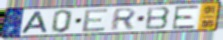0: (50, 8, 74, 34)
A: (20, 11, 49, 35)
B: (144, 6, 172, 31)
E: (81, 7, 111, 33), (171, 4, 201, 30)
R: (109, 7, 138, 32)
